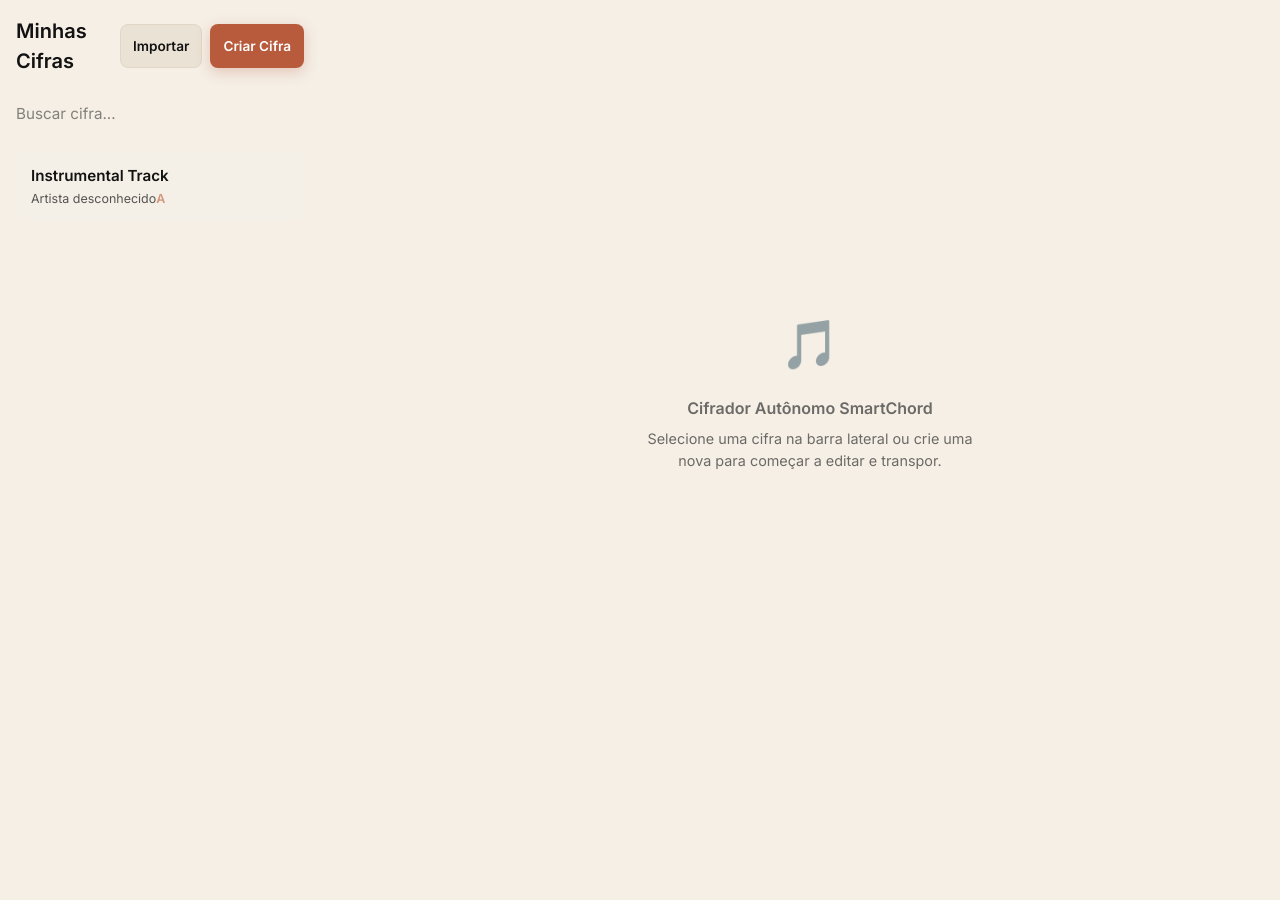
Test: SmartChordsWorkspace › Instrumental Bar Progression UI Safety (Hotfix R1.2) › renders bracketed bar progressions with independently clickable chords and preserved delimiters
Click the text "Instrumental Track". click: x=100, y=176
box: [31, 165, 169, 188]
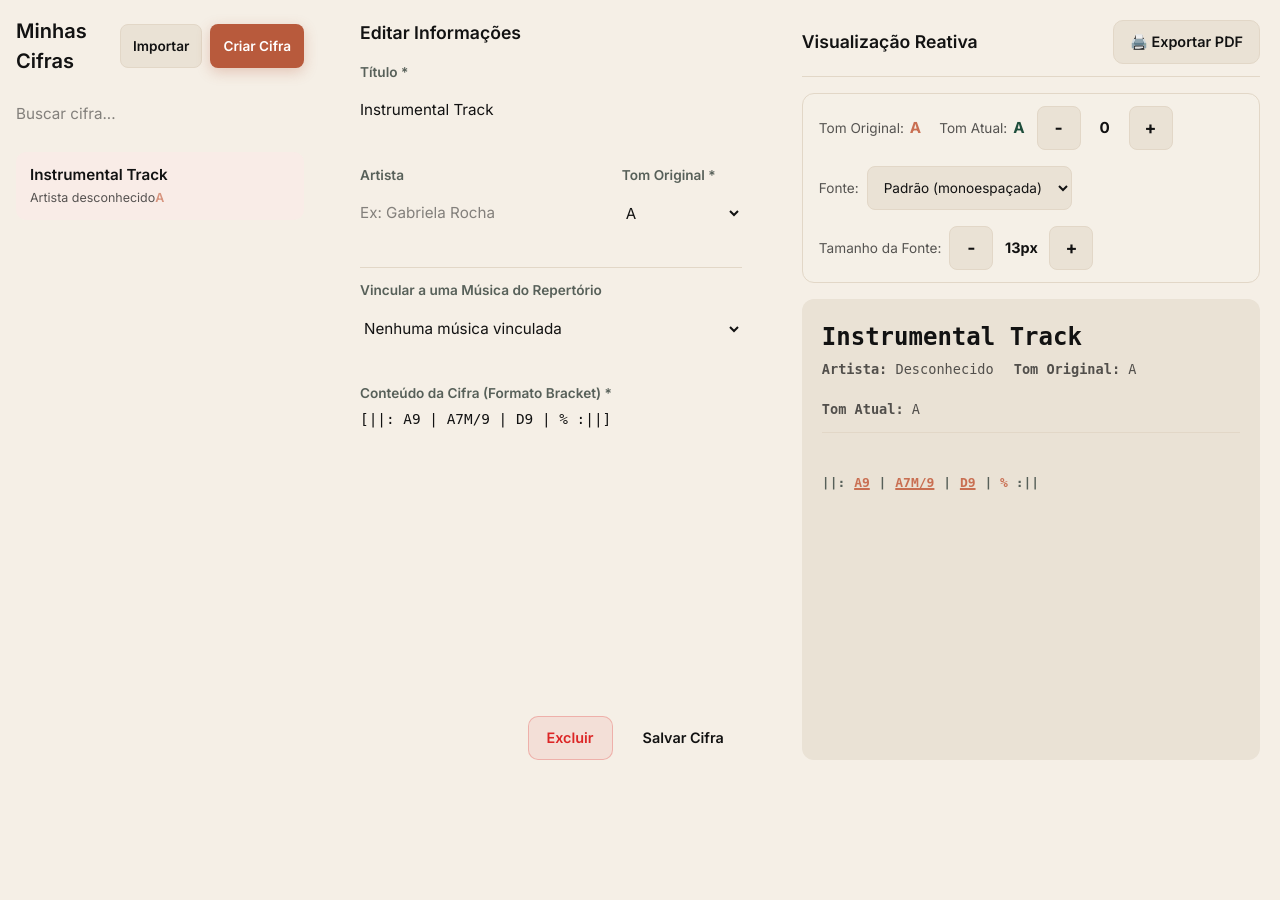
Check: the text "||:" is shown, box [822, 474, 845, 492]
Check: the text ":||" is shown, box [1016, 474, 1039, 492]
Check: the text "%" is shown, box [1000, 474, 1008, 492]
